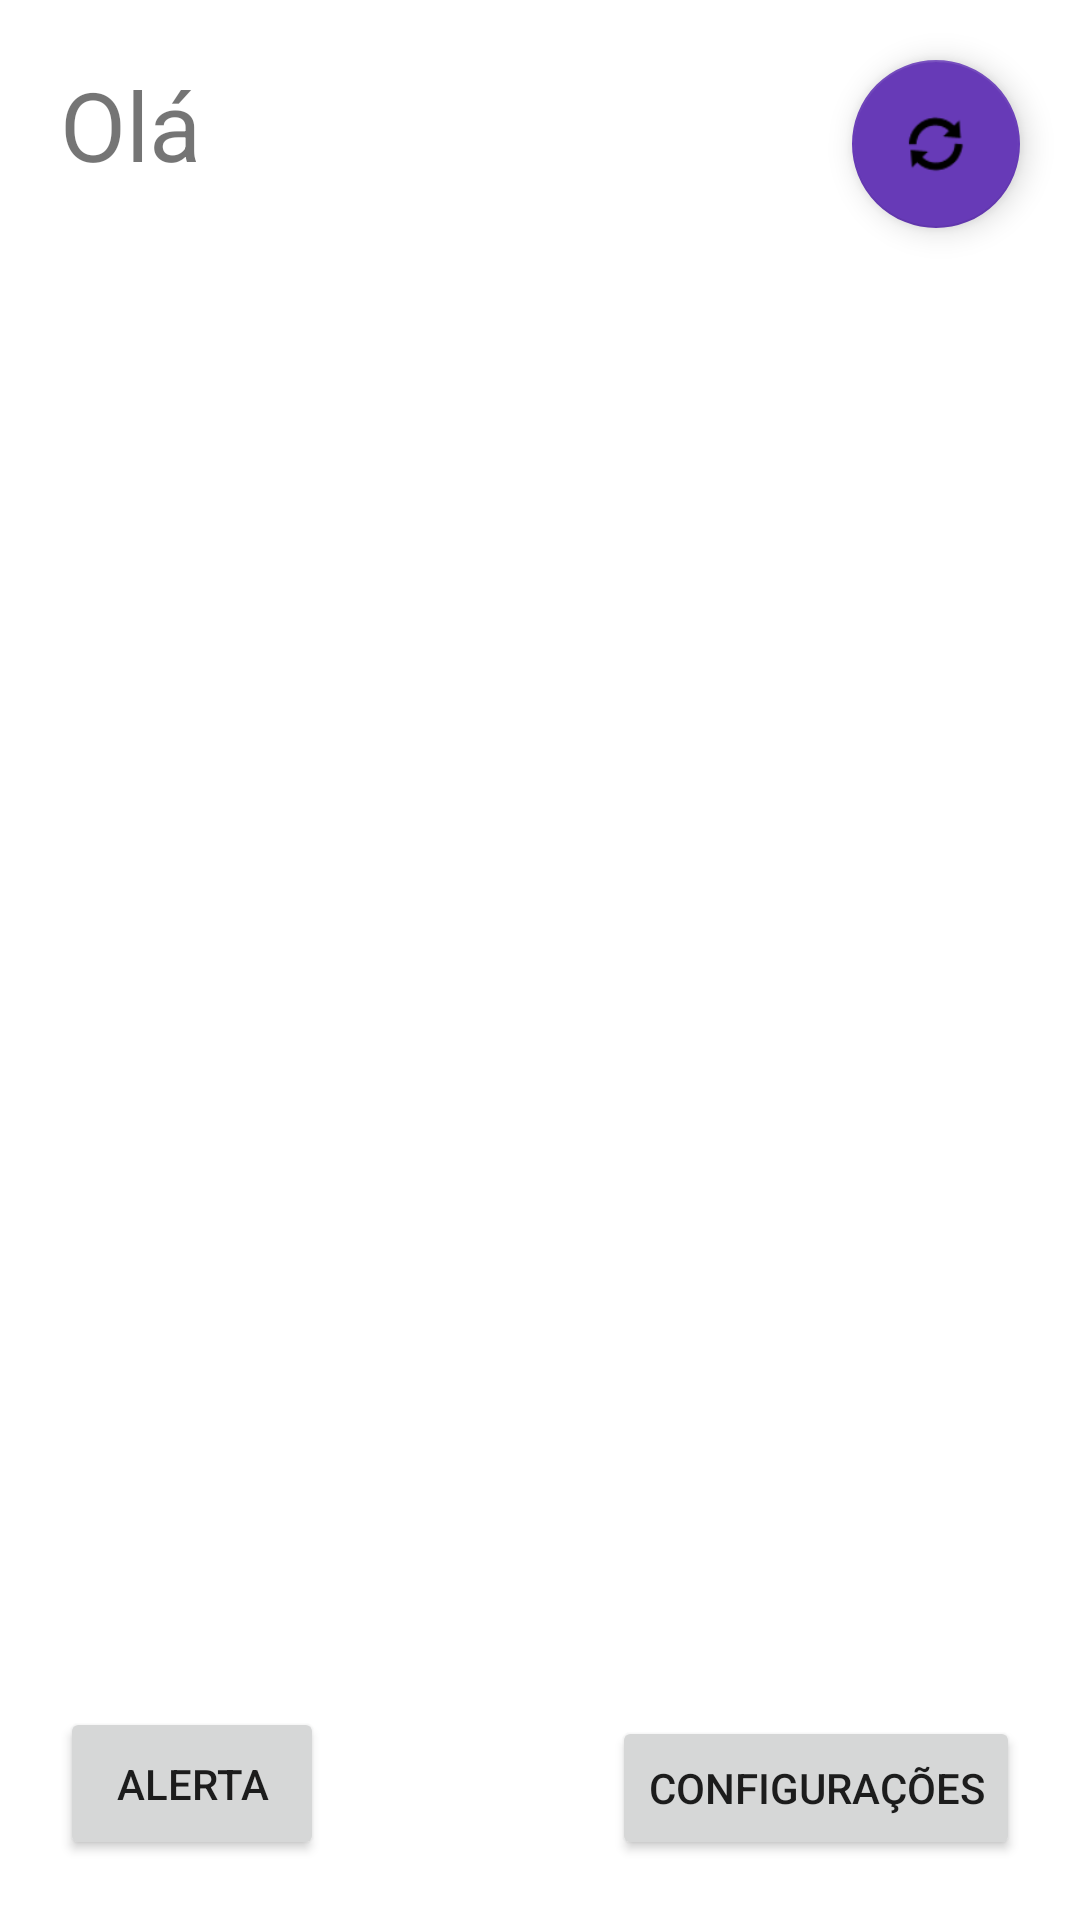

Where icons sit on this 1080×1920 app screen, as BBox(x1, y1, x2, y2):
popup sync: BBox(852, 60, 1020, 228)
